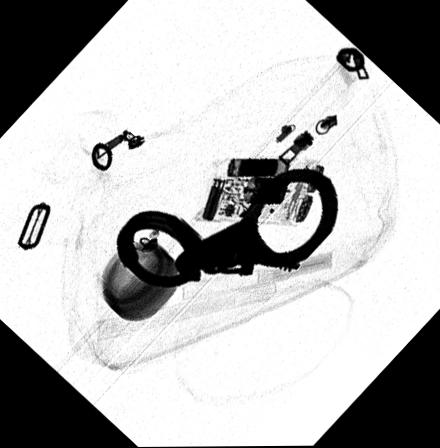HandCuffs: (115, 168, 337, 289)
